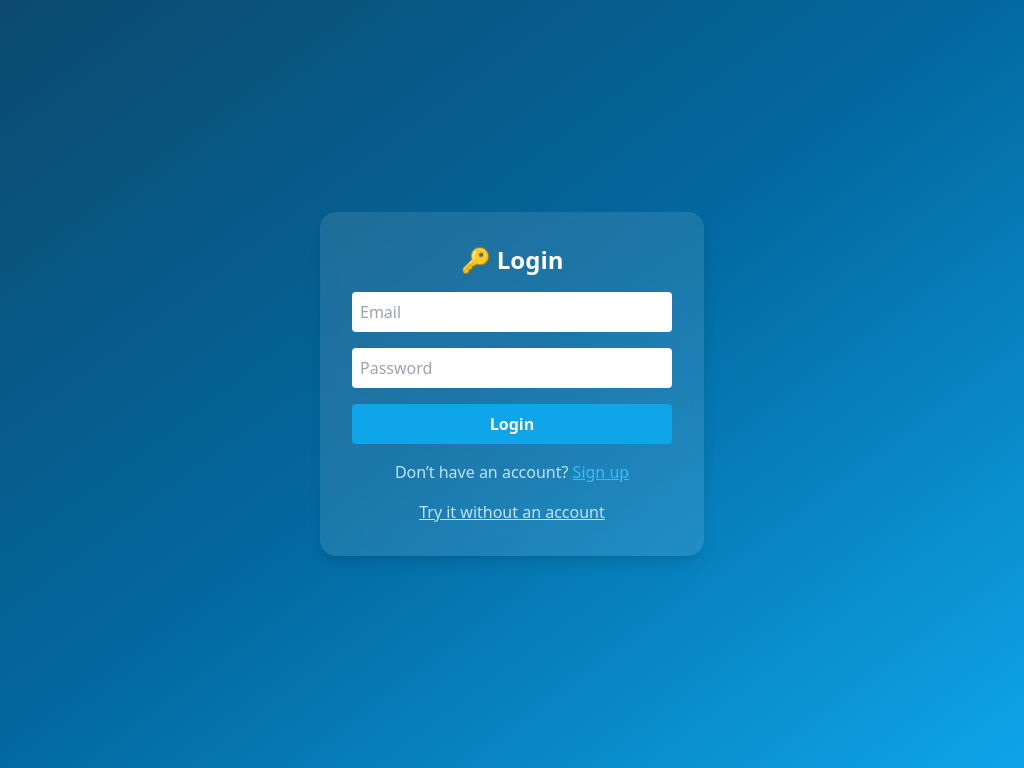
Login page › shows why signing in failed and stays on the page
Type "me@example.com" into the field with placeholder "Email".
click(512, 312); type("me@example.com")  # box [352,292,672,332]
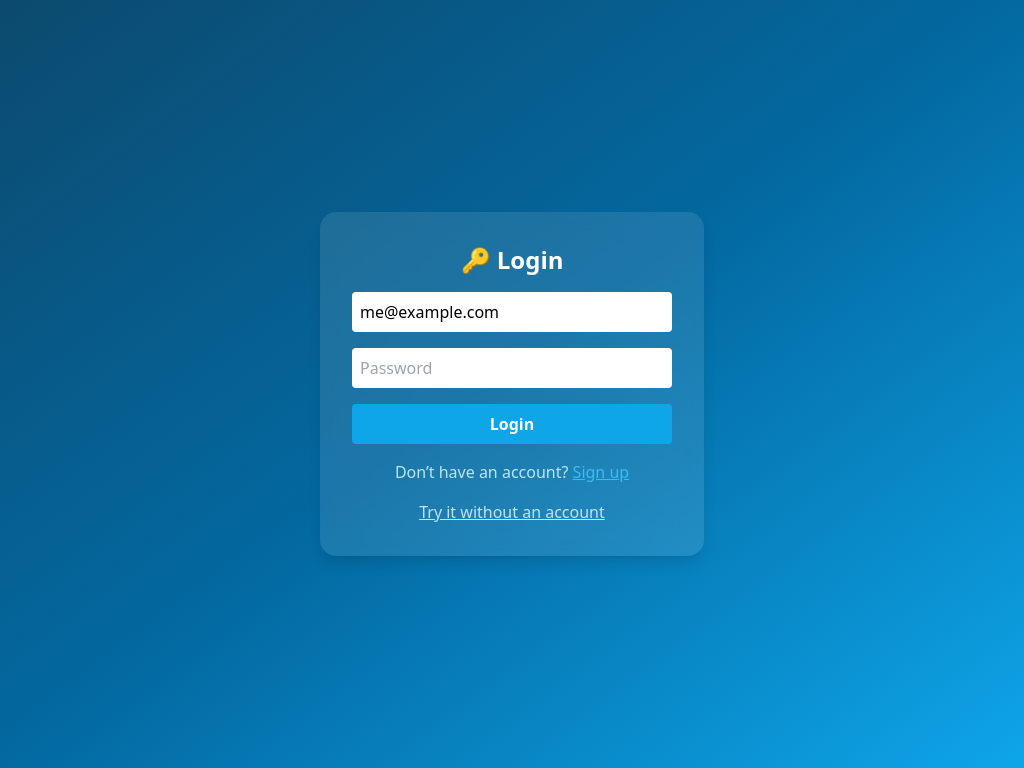
Type "hunter22" into the password field with placeholder "Password".
click(512, 368); type("hunter22")  # box [352,348,672,388]
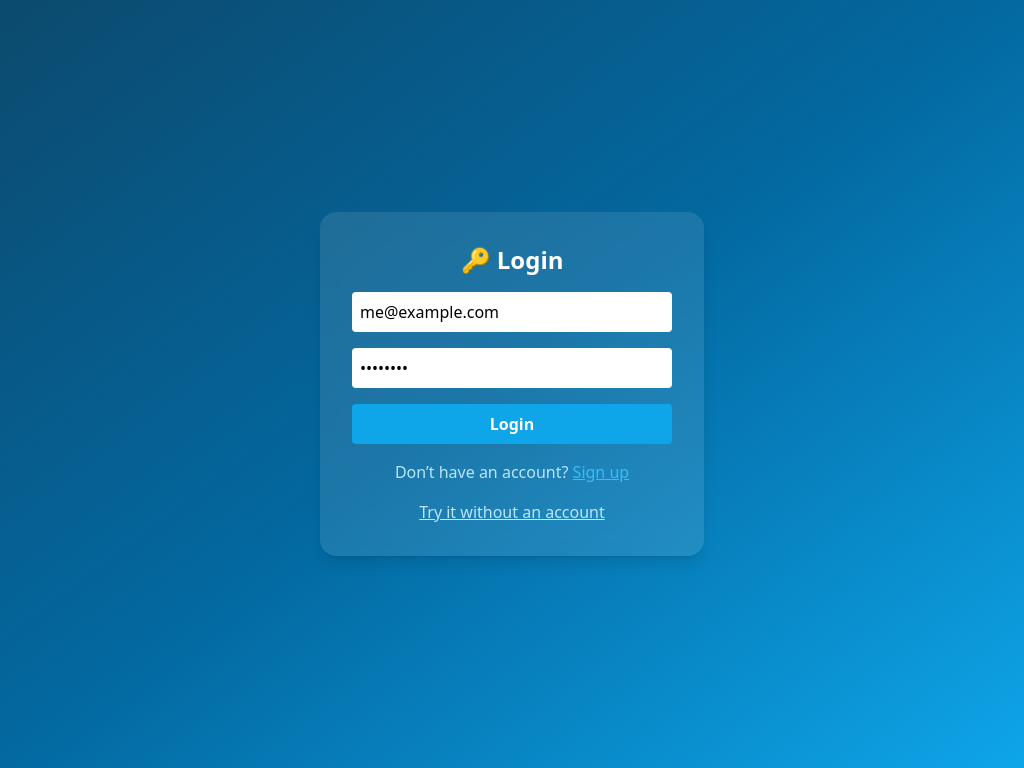
Click the button "Login".
click(512, 424)  # box [352,404,672,444]
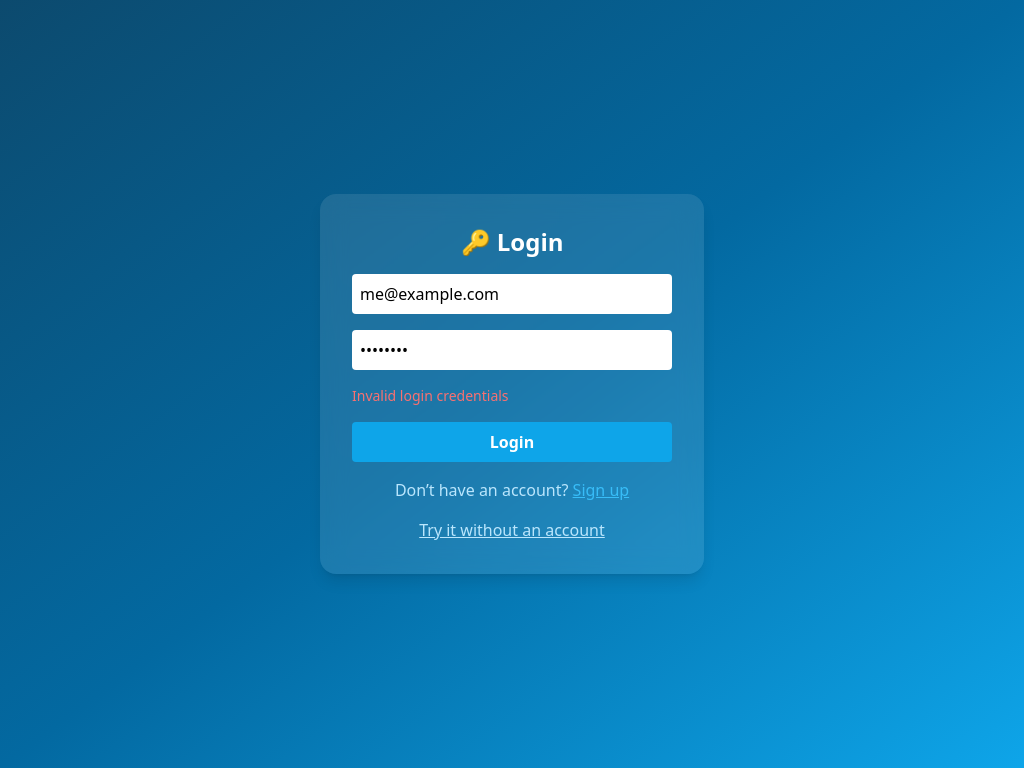
Expected: the button "Login" is enabled, [352,422,672,462]
Now the text "Invalid login credentials" is shown, box [352,386,509,405]
